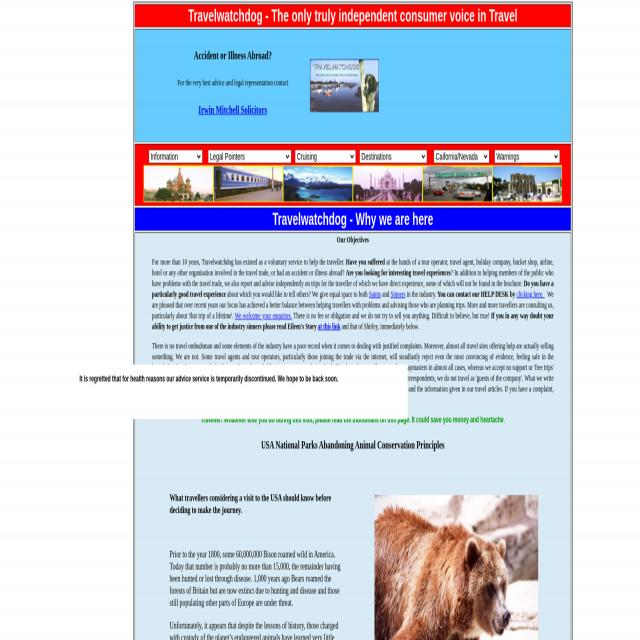button: (309, 58, 378, 111)
field: (207, 148, 291, 162), (359, 148, 427, 162), (494, 148, 559, 162), (295, 148, 355, 162), (433, 148, 489, 162), (148, 148, 202, 162)
